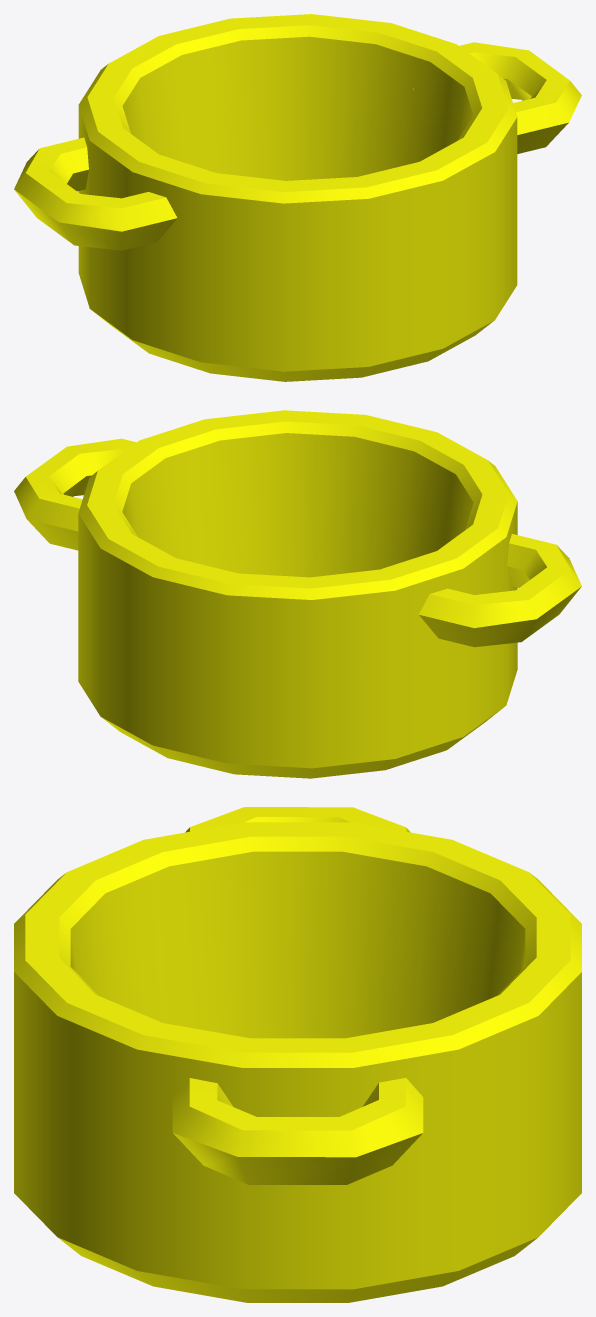
Rendered from pot_A.gltf.
3 renders of one model, top to bottom at view 1: azimuth 30°, elevation 25°; view 2: azimuth 150°, elevation 25°; view 3: azimuth 270°, elevation 25°, orthographic. The views are drawn at different scales.
Visible parts, largest first — view 1: pot_A; view 2: pot_A; view 3: pot_A.
Part boxes in pixels (<box>): pot_A: <box>14,14,581,381</box>; pot_A: <box>14,410,581,778</box>; pot_A: <box>14,807,581,1302</box>.
Bounding box in the file's own units: 1.4 × 0.5 × 1.
1 material, 1 textured.
